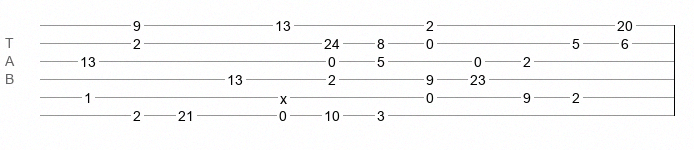0: (279, 108, 287, 118), (328, 54, 336, 64), (426, 36, 434, 46), (426, 90, 434, 100), (474, 54, 482, 64)
1: (84, 90, 92, 100)
10: (324, 108, 340, 118)
13: (80, 54, 96, 64), (227, 72, 243, 82), (275, 18, 291, 28)
2: (133, 36, 141, 46), (133, 108, 141, 118), (328, 72, 336, 82), (426, 18, 434, 28), (523, 54, 531, 64), (572, 90, 580, 100)
20: (617, 18, 633, 28)
21: (178, 108, 194, 118)
23: (470, 72, 486, 82)
24: (324, 36, 340, 46)
3: (377, 108, 385, 118)
5: (377, 54, 385, 64), (572, 36, 580, 46)
6: (621, 36, 629, 46)
8: (377, 36, 385, 46)
9: (133, 18, 141, 28), (426, 72, 434, 82), (523, 90, 531, 100)
x: (280, 91, 287, 99)
